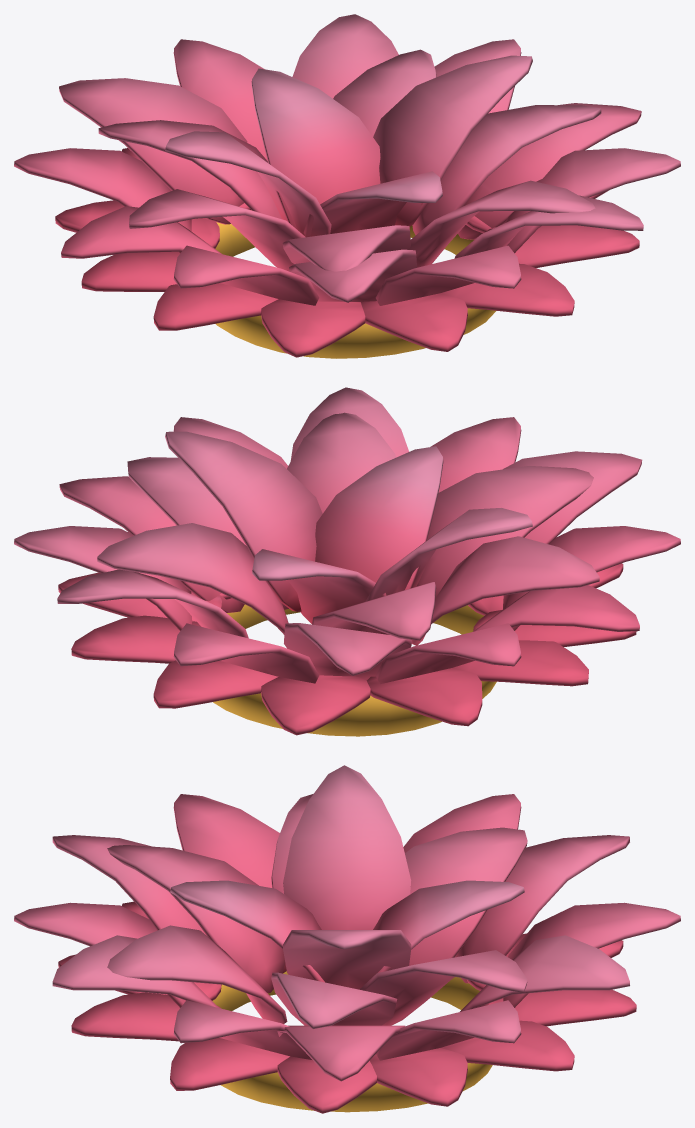
Rendered from kepalaperibunga.fbx.
The picture shows the model from 3 angles, top to bottom: view 1: azimuth 30°, elevation 25°; view 2: azimuth 150°, elevation 25°; view 3: azimuth 270°, elevation 25°; orthographic projection.
Visible parts, largest first — view 1: Kepala Peri Bunga; view 2: Kepala Peri Bunga; view 3: Kepala Peri Bunga.
Part boxes in pixels (x1,y1,x2,y2): Kepala Peri Bunga: [14, 14, 680, 358]; Kepala Peri Bunga: [14, 387, 680, 736]; Kepala Peri Bunga: [14, 765, 680, 1113].
Bounding box in the file's own units: 265 × 84.63 × 263.
